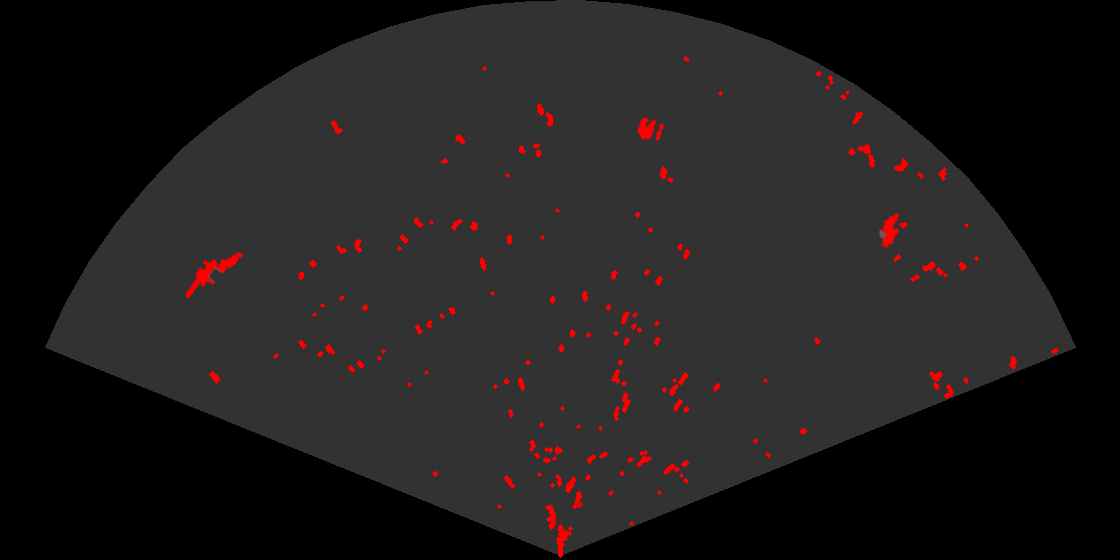AUV: (877, 211, 901, 250)
ball: (636, 115, 666, 143)
frogman: (186, 250, 245, 298)
